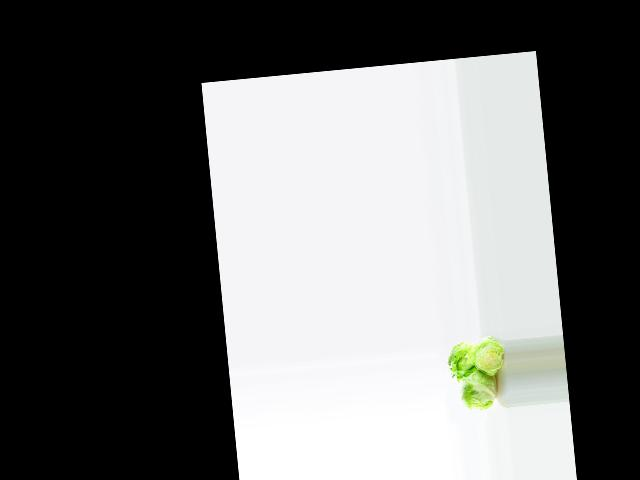lettuce: (442, 339, 480, 385)
